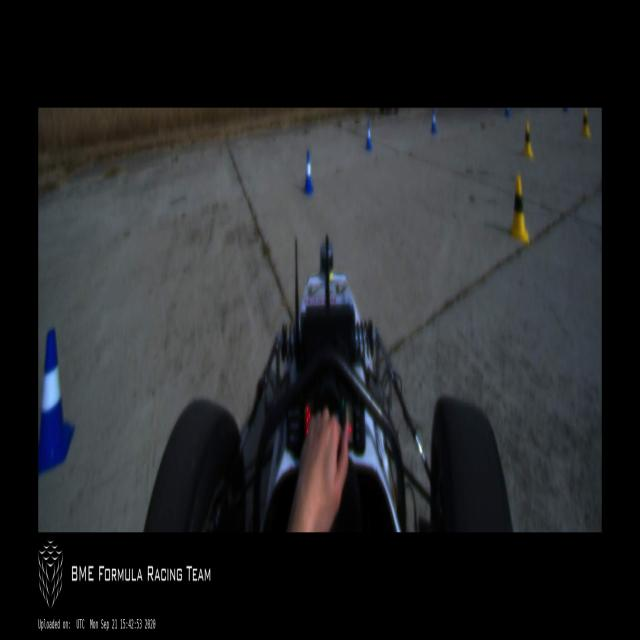blue_cone: (38, 326, 76, 476), (302, 149, 314, 196), (364, 118, 372, 152), (430, 108, 438, 134), (505, 108, 510, 117)
yellow_cone: (510, 172, 529, 242), (522, 119, 533, 158), (581, 108, 591, 138)
